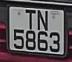3: (49, 31, 62, 54)
5: (12, 28, 26, 51)
6: (37, 31, 49, 53)
8: (25, 29, 37, 52)
N: (37, 9, 50, 32)
T: (24, 8, 37, 31)
